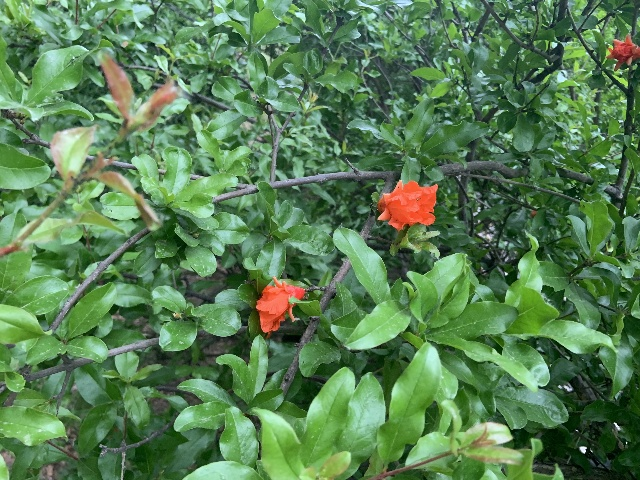flower: (376, 179, 437, 230), (255, 276, 305, 336), (605, 33, 640, 70)
